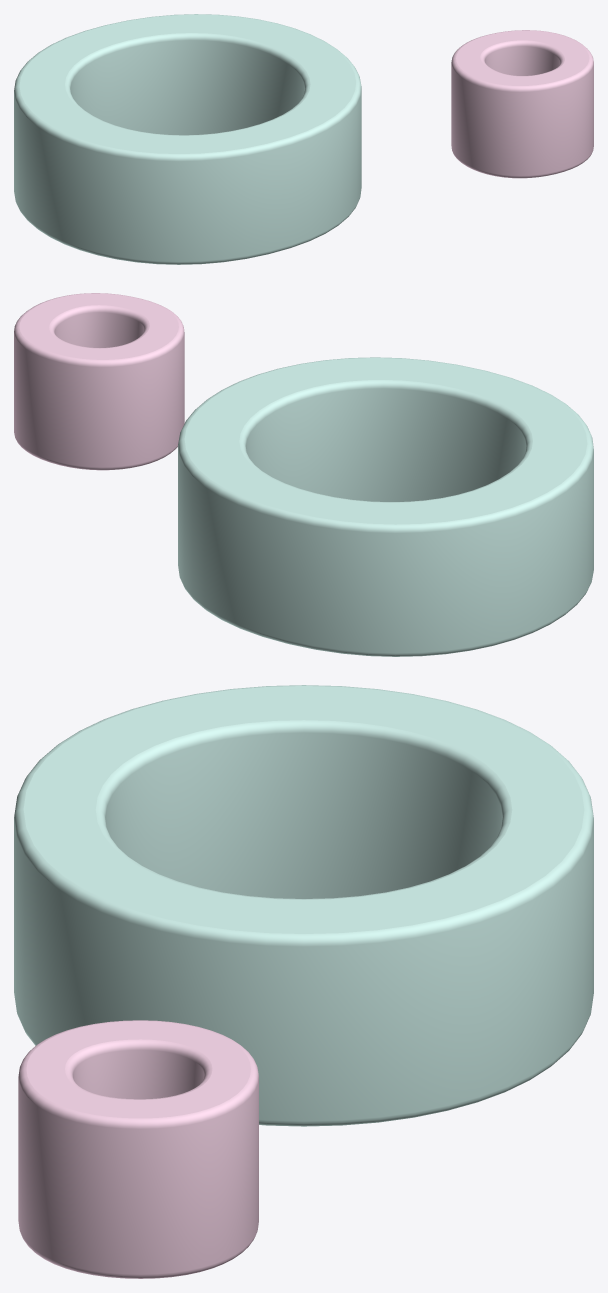
Rendered from vocal_O.glb.
3 renders of one model, top to bottom at view 1: azimuth 30°, elevation 25°; view 2: azimuth 150°, elevation 25°; view 3: azimuth 270°, elevation 25°, orthographic. The views are drawn at different scales.
Parts seen in each view (by area): view 1: O_Mayuscula, o_minuscula; view 2: O_Mayuscula, o_minuscula; view 3: O_Mayuscula, o_minuscula.
Part boxes in pixels (x1,y1,x2,y2): O_Mayuscula: (14,14,361,264); o_minuscula: (451,30,593,178); O_Mayuscula: (178,357,593,656); o_minuscula: (14,293,184,470); O_Mayuscula: (14,685,593,1126); o_minuscula: (18,1020,258,1278).
Bounding box in the file's own units: 3.13 × 0.66 × 1.81.
